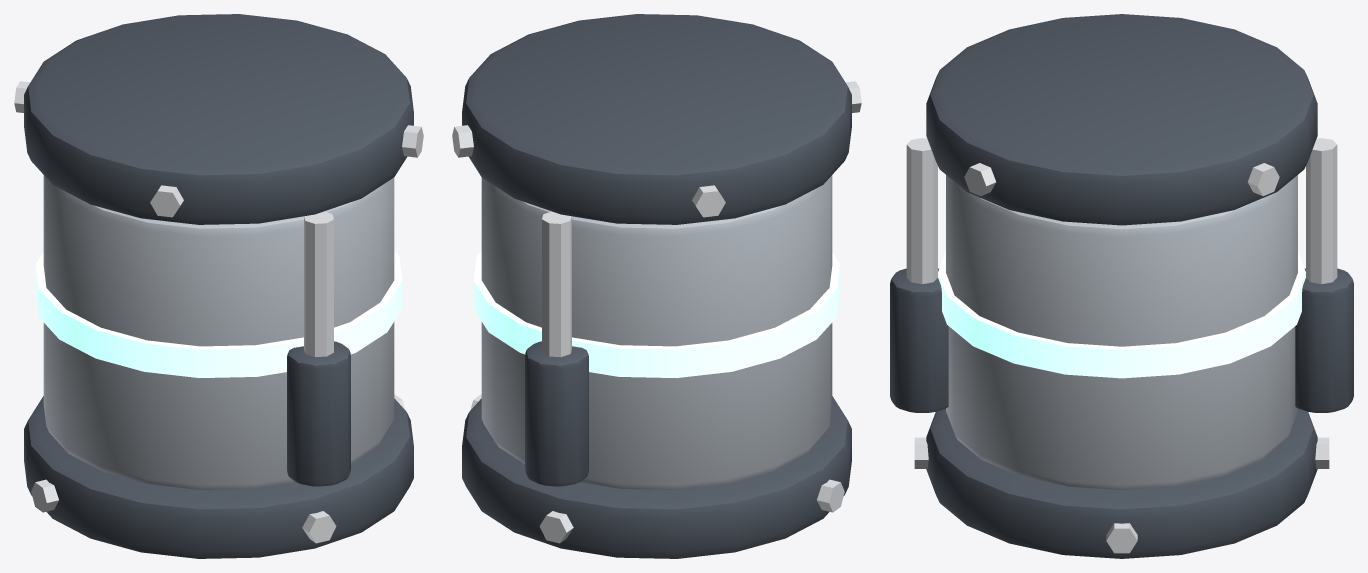
Rendered from arm-parts.glb.
3 renders of one model, left to right at view 1: azimuth 30°, elevation 25°; view 2: azimuth 150°, elevation 25°; view 3: azimuth 270°, elevation 25°, orthographic.
Visible parts, largest first — view 1: segment, segment_accent; view 2: segment, segment_accent; view 3: segment, segment_accent.
Boxes of the visible parts, bbox=[...] form: segment: bbox=[14, 14, 423, 558]; segment_accent: bbox=[35, 251, 402, 377]; segment: bbox=[452, 14, 861, 558]; segment_accent: bbox=[473, 251, 840, 377]; segment: bbox=[890, 14, 1353, 558]; segment_accent: bbox=[938, 251, 1305, 378].
Size of the model in its own units: 2.12 by 2.2 by 2.37.
